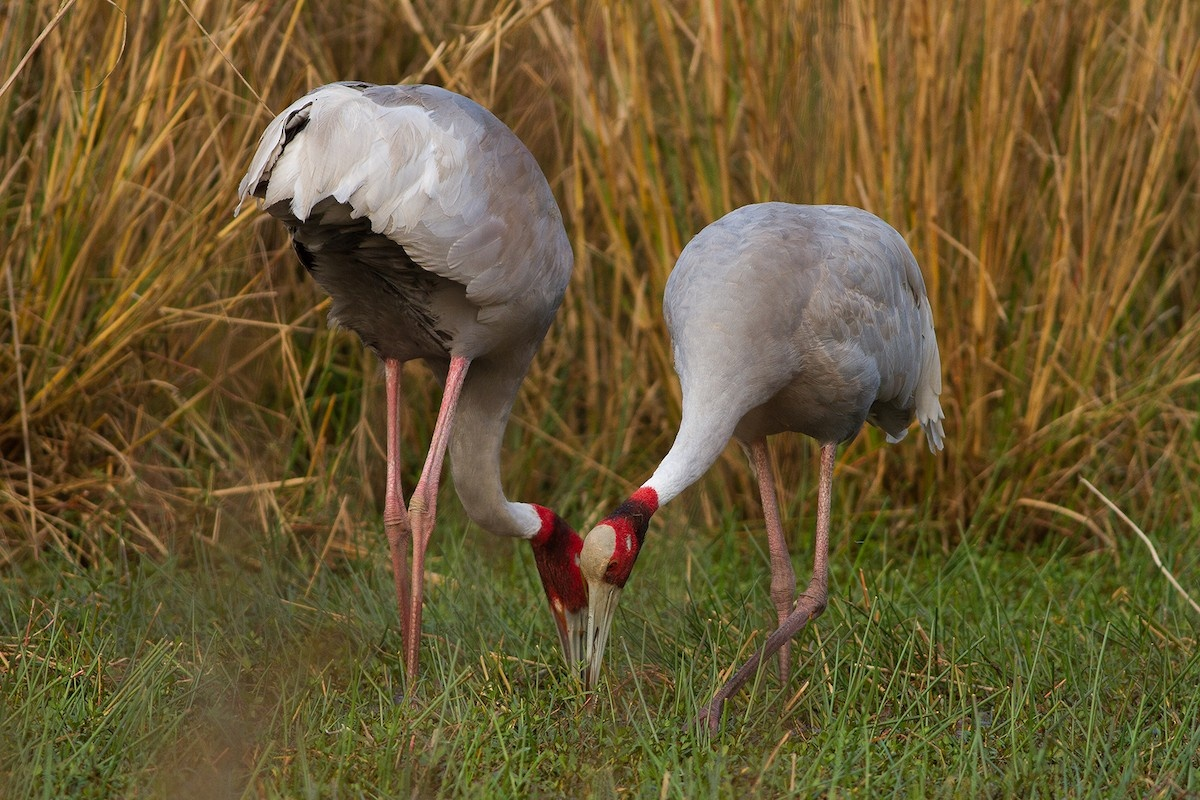crane: (233, 66, 591, 691), (578, 190, 952, 721)
